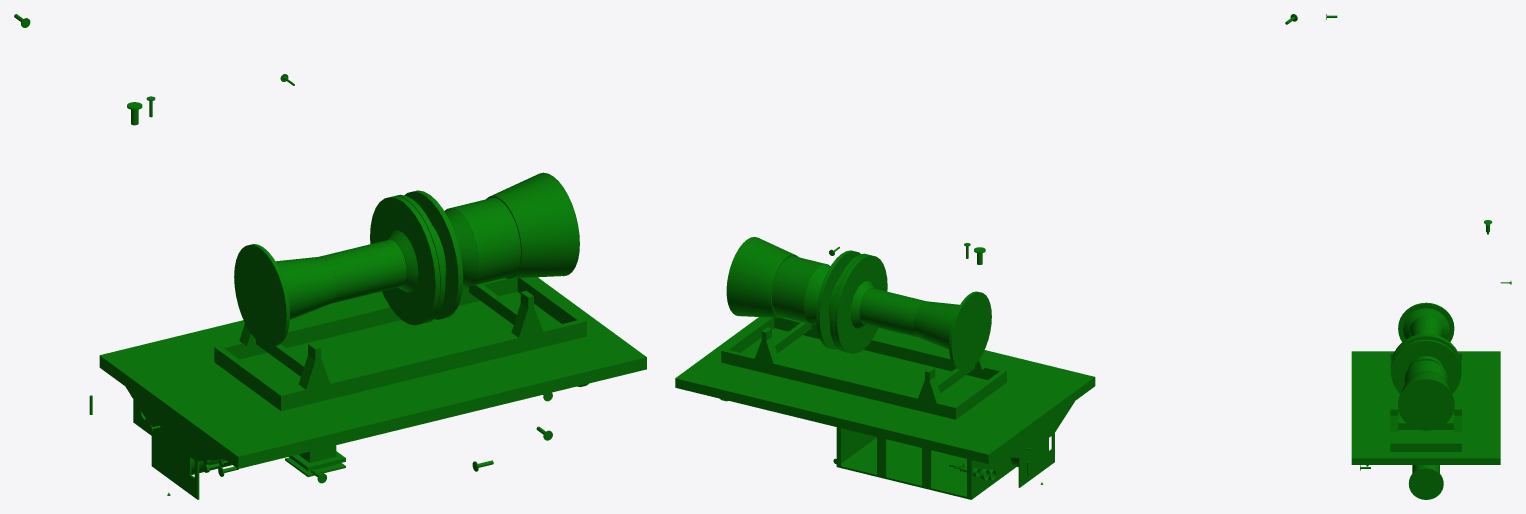
The model's file is Image-1711348148942-2280980454464_27-KA50(T).fbx.
3 renders of one model, left to right at view 1: azimuth 30°, elevation 25°; view 2: azimuth 150°, elevation 25°; view 3: azimuth 270°, elevation 25°, orthographic. The views are drawn at different scales.
Visible parts, largest first — view 1: BOX 5 of SUBEQUIPMENT /27-KA50(T)/RAMME, CONE 1 of SUBEQUIPMENT /27-KA50(T)/TURBINE, BOX 6 of SUBEQUIPMENT /27-KA50(T)/TURBINE, CYLINDER 2 of SUBEQUIPMENT /27-KA50(T)/TURBINE, CYLINDER 8 of SUBEQUIPMENT /27-KA50(T)/TURBINE, CYLINDER 1 of SUBEQUIPMENT /27-KA50(T)/TURBINE, CYLINDER 7 of SUBEQUIPMENT /27-KA50(T)/TURBINE, BOX 1 of SUBEQUIPMENT /27-KA50(T)/TURBINE, BOX 1 of SUBEQUIPMENT /27-KA50(T)/RAMME, CONE 4 of SUBEQUIPMENT /27-KA50(T)/TURBINE, CYLINDER 4 of SUBEQUIPMENT /27-KA50(T)/TURBINE, BOX 5 of SUBEQUIPMENT /27-KA50(T)/TURBINE (+7 smaller); view 2: BOX 5 of SUBEQUIPMENT /27-KA50(T)/RAMME, BOX 2 of SUBEQUIPMENT /27-KA50(T)/RAMME, CONE 1 of SUBEQUIPMENT /27-KA50(T)/TURBINE, BOX 1 of SUBEQUIPMENT /27-KA50(T)/TURBINE, CYLINDER 2 of SUBEQUIPMENT /27-KA50(T)/TURBINE, CYLINDER 8 of SUBEQUIPMENT /27-KA50(T)/TURBINE, CYLINDER 1 of SUBEQUIPMENT /27-KA50(T)/TURBINE, CYLINDER 7 of SUBEQUIPMENT /27-KA50(T)/TURBINE, BOX 6 of SUBEQUIPMENT /27-KA50(T)/TURBINE, CONE 4 of SUBEQUIPMENT /27-KA50(T)/TURBINE, CYLINDER 4 of SUBEQUIPMENT /27-KA50(T)/TURBINE, BOX 1 of SUBEQUIPMENT /27-KA50(T)/RAMME (+3 smaller); view 3: BOX 5 of SUBEQUIPMENT /27-KA50(T)/RAMME, CONE 1 of SUBEQUIPMENT /27-KA50(T)/TURBINE, CYLINDER 4 of SUBEQUIPMENT /27-KA50(T)/TURBINE, CYLINDER 5 of SUBEQUIPMENT /27-KA50(T)/RAMME, BOX 2 of SUBEQUIPMENT /27-KA50(T)/TURBINE, CYLINDER 4 of SUBEQUIPMENT /27-KA50(T)/RAMME, CYLINDER 8 of SUBEQUIPMENT /27-KA50(T)/TURBINE, CONE 5 of SUBEQUIPMENT /27-KA50(T)/TURBINE, CONE 4 of SUBEQUIPMENT /27-KA50(T)/TURBINE, CYLINDER 1 of SUBEQUIPMENT /27-KA50(T)/TURBINE, CYLINDER 3 of SUBEQUIPMENT /27-KA50(T)/TURBINE, EXTRUSION 2 of SUBEQUIPMENT /27-KA50(T)/TURBINE.
Part boxes in pixels (bbox=[...]): BOX 5 of SUBEQUIPMENT /27-KA50(T)/RAMME: bbox=[99, 277, 646, 468]; CONE 1 of SUBEQUIPMENT /27-KA50(T)/TURBINE: bbox=[486, 172, 579, 278]; BOX 6 of SUBEQUIPMENT /27-KA50(T)/TURBINE: bbox=[277, 319, 586, 410]; CYLINDER 2 of SUBEQUIPMENT /27-KA50(T)/TURBINE: bbox=[370, 196, 440, 325]; CYLINDER 8 of SUBEQUIPMENT /27-KA50(T)/TURBINE: bbox=[234, 244, 289, 347]; CYLINDER 1 of SUBEQUIPMENT /27-KA50(T)/TURBINE: bbox=[450, 197, 520, 286]; CYLINDER 7 of SUBEQUIPMENT /27-KA50(T)/TURBINE: bbox=[320, 239, 406, 303]; BOX 1 of SUBEQUIPMENT /27-KA50(T)/TURBINE: bbox=[214, 278, 517, 364]; BOX 1 of SUBEQUIPMENT /27-KA50(T)/RAMME: bbox=[151, 406, 199, 499]; CONE 4 of SUBEQUIPMENT /27-KA50(T)/TURBINE: bbox=[275, 256, 336, 319]; CYLINDER 4 of SUBEQUIPMENT /27-KA50(T)/TURBINE: bbox=[404, 190, 463, 319]; BOX 5 of SUBEQUIPMENT /27-KA50(T)/TURBINE: bbox=[214, 346, 286, 410]; BOX 5 of SUBEQUIPMENT /27-KA50(T)/RAMME: bbox=[675, 317, 1095, 463]; BOX 2 of SUBEQUIPMENT /27-KA50(T)/RAMME: bbox=[836, 427, 1015, 499]; CONE 1 of SUBEQUIPMENT /27-KA50(T)/TURBINE: bbox=[726, 237, 798, 317]; BOX 1 of SUBEQUIPMENT /27-KA50(T)/TURBINE: bbox=[721, 349, 957, 419]; CYLINDER 2 of SUBEQUIPMENT /27-KA50(T)/TURBINE: bbox=[833, 254, 887, 353]; CYLINDER 8 of SUBEQUIPMENT /27-KA50(T)/TURBINE: bbox=[949, 291, 991, 370]; CYLINDER 1 of SUBEQUIPMENT /27-KA50(T)/TURBINE: bbox=[771, 256, 826, 324]; CYLINDER 7 of SUBEQUIPMENT /27-KA50(T)/TURBINE: bbox=[859, 288, 925, 336]; BOX 6 of SUBEQUIPMENT /27-KA50(T)/TURBINE: bbox=[774, 317, 1006, 379]; CONE 4 of SUBEQUIPMENT /27-KA50(T)/TURBINE: bbox=[913, 301, 959, 349]; CYLINDER 4 of SUBEQUIPMENT /27-KA50(T)/TURBINE: bbox=[816, 250, 860, 349]; BOX 1 of SUBEQUIPMENT /27-KA50(T)/RAMME: bbox=[1018, 416, 1054, 487]; BOX 5 of SUBEQUIPMENT /27-KA50(T)/RAMME: bbox=[1351, 351, 1500, 464]; CONE 1 of SUBEQUIPMENT /27-KA50(T)/TURBINE: bbox=[1398, 370, 1454, 430]; CYLINDER 4 of SUBEQUIPMENT /27-KA50(T)/TURBINE: bbox=[1391, 339, 1461, 393]; CYLINDER 5 of SUBEQUIPMENT /27-KA50(T)/RAMME: bbox=[1408, 467, 1443, 499]; BOX 2 of SUBEQUIPMENT /27-KA50(T)/TURBINE: bbox=[1390, 442, 1461, 451]; CYLINDER 4 of SUBEQUIPMENT /27-KA50(T)/RAMME: bbox=[1412, 465, 1439, 496]; CYLINDER 8 of SUBEQUIPMENT /27-KA50(T)/TURBINE: bbox=[1398, 302, 1454, 341]; CONE 5 of SUBEQUIPMENT /27-KA50(T)/TURBINE: bbox=[1403, 308, 1449, 339]; CONE 4 of SUBEQUIPMENT /27-KA50(T)/TURBINE: bbox=[1409, 315, 1443, 336]; CYLINDER 1 of SUBEQUIPMENT /27-KA50(T)/TURBINE: bbox=[1404, 360, 1447, 384]; CYLINDER 3 of SUBEQUIPMENT /27-KA50(T)/TURBINE: bbox=[1391, 335, 1461, 368]; EXTRUSION 2 of SUBEQUIPMENT /27-KA50(T)/TURBINE: bbox=[1390, 408, 1398, 432].
Bounding box in the file's own units: 11.07 × 5.1 × 9.89.
